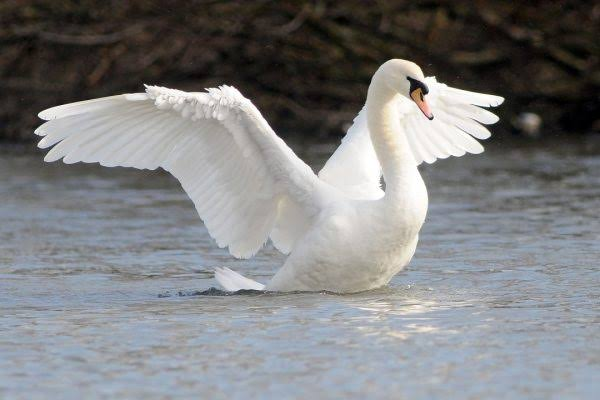swan: (36, 59, 506, 294)
